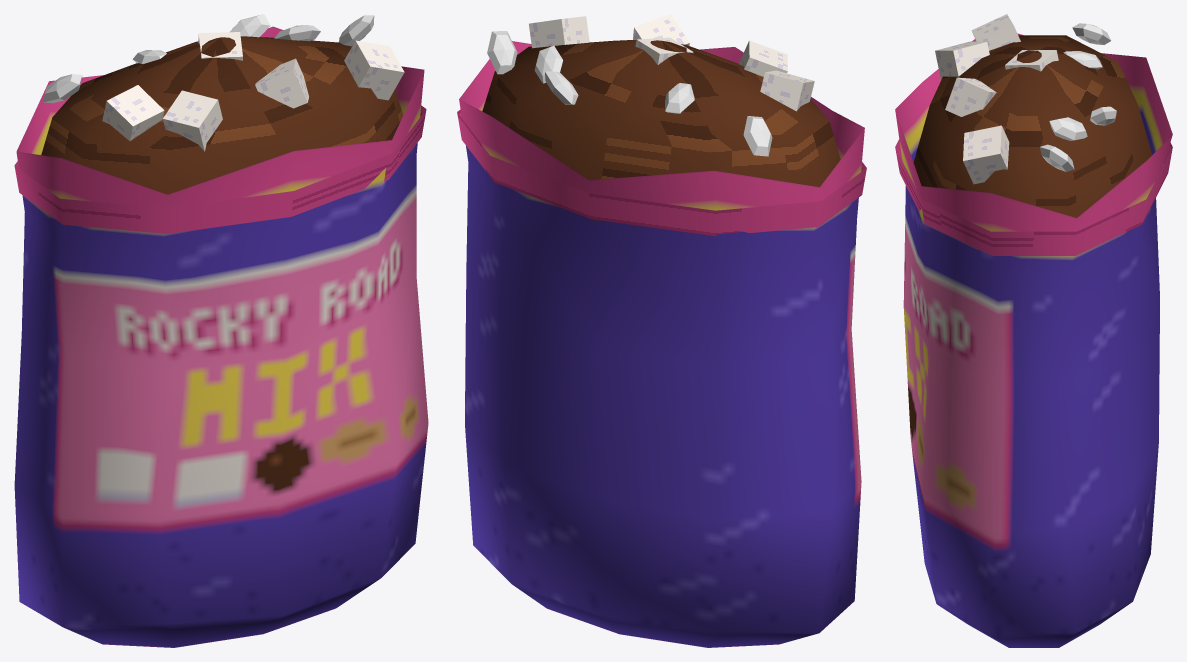
File: Nut Bag.fbx
The picture shows the model from 3 angles, left to right: view 1: azimuth 30°, elevation 25°; view 2: azimuth 150°, elevation 25°; view 3: azimuth 270°, elevation 25°; orthographic projection. The views are drawn at different scales.
Parts seen in each view (by area): view 1: Nut Bag bag, Nut Bag mix, Nut Bag rolled rim, Nut Bag marshmallow 6, Nut Bag marshmallow 8, Nut Bag marshmallow 0, Nut Bag marshmallow 2, Nut Bag almond 5, Nut Bag marshmallow 4, Nut Bag almond 9, Nut Bag almond 7; view 2: Nut Bag bag, Nut Bag mix, Nut Bag rolled rim, Nut Bag marshmallow 6, Nut Bag marshmallow 0, Nut Bag marshmallow 8, Nut Bag almond 9, Nut Bag marshmallow 2, Nut Bag almond 5, Nut Bag almond 1, Nut Bag almond 7, Nut Bag almond 3 (+1 smaller); view 3: Nut Bag bag, Nut Bag mix, Nut Bag rolled rim, Nut Bag marshmallow 6, Nut Bag marshmallow 8, Nut Bag marshmallow 2, Nut Bag marshmallow 0, Nut Bag almond 3, Nut Bag almond 9, Nut Bag almond 5, Nut Bag marshmallow 4, Nut Bag almond 7 (+1 smaller).
Boxes of the visible parts, <box> form: Nut Bag bag: <box>14,26,428,647</box>; Nut Bag mix: <box>41,36,403,194</box>; Nut Bag rolled rim: <box>14,105,426,233</box>; Nut Bag marshmallow 6: <box>344,40,404,100</box>; Nut Bag marshmallow 8: <box>163,90,222,151</box>; Nut Bag marshmallow 0: <box>102,85,164,140</box>; Nut Bag marshmallow 2: <box>255,58,308,108</box>; Nut Bag almond 5: <box>43,74,82,103</box>; Nut Bag marshmallow 4: <box>198,32,242,60</box>; Nut Bag almond 9: <box>339,15,374,46</box>; Nut Bag almond 7: <box>229,14,270,37</box>; Nut Bag bag: <box>459,41,864,647</box>; Nut Bag mix: <box>482,39,840,221</box>; Nut Bag rolled rim: <box>457,109,866,236</box>; Nut Bag marshmallow 6: <box>529,16,589,48</box>; Nut Bag marshmallow 0: <box>760,70,814,111</box>; Nut Bag marshmallow 8: <box>739,40,787,76</box>; Nut Bag almond 9: <box>487,31,517,74</box>; Nut Bag marshmallow 2: <box>633,14,689,45</box>; Nut Bag almond 5: <box>743,116,772,156</box>; Nut Bag almond 1: <box>665,83,694,113</box>; Nut Bag almond 7: <box>545,71,578,104</box>; Nut Bag almond 3: <box>534,45,562,83</box>; Nut Bag bag: <box>895,33,1172,647</box>; Nut Bag mix: <box>913,35,1151,217</box>; Nut Bag rolled rim: <box>895,139,1172,255</box>; Nut Bag marshmallow 6: <box>963,125,1009,184</box>; Nut Bag marshmallow 8: <box>935,41,989,80</box>; Nut Bag marshmallow 2: <box>945,77,996,116</box>; Nut Bag marshmallow 0: <box>971,14,1020,50</box>; Nut Bag almond 3: <box>1049,117,1087,140</box>; Nut Bag almond 9: <box>1039,144,1074,171</box>; Nut Bag almond 5: <box>1072,23,1111,44</box>; Nut Bag marshmallow 4: <box>1005,50,1058,71</box>; Nut Bag almond 7: <box>1090,106,1116,125</box>.
Bounding box in the file's own units: 0.3548 × 0.51 × 0.24.
Materials: 5 (4 with a texture image).
